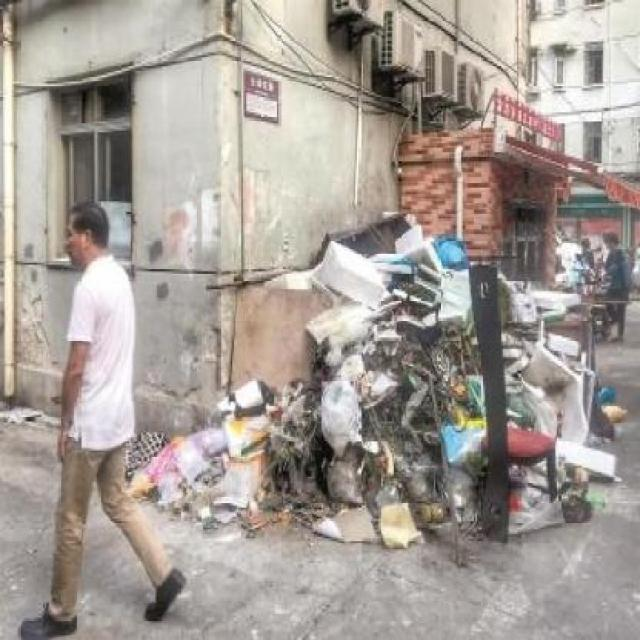garbage: (196, 208, 577, 535), (136, 428, 197, 512), (586, 376, 626, 502)
